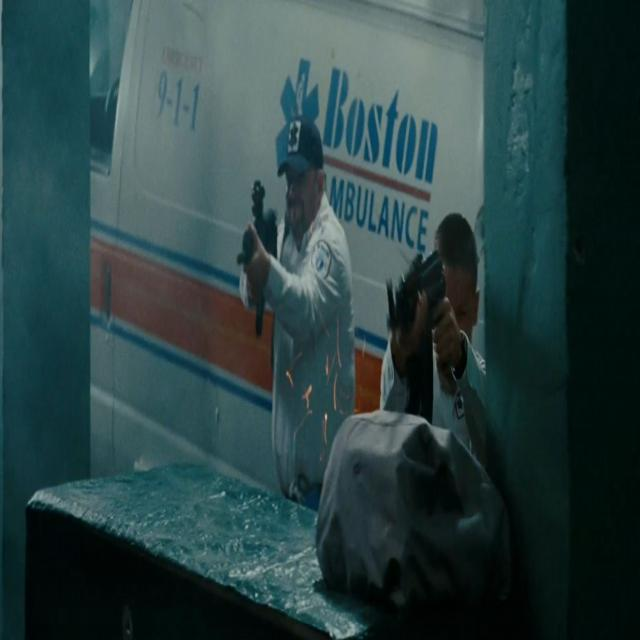gun-knife-thesis - v11 Yolov5 augmented: (385, 247, 458, 432), (236, 169, 278, 341)
